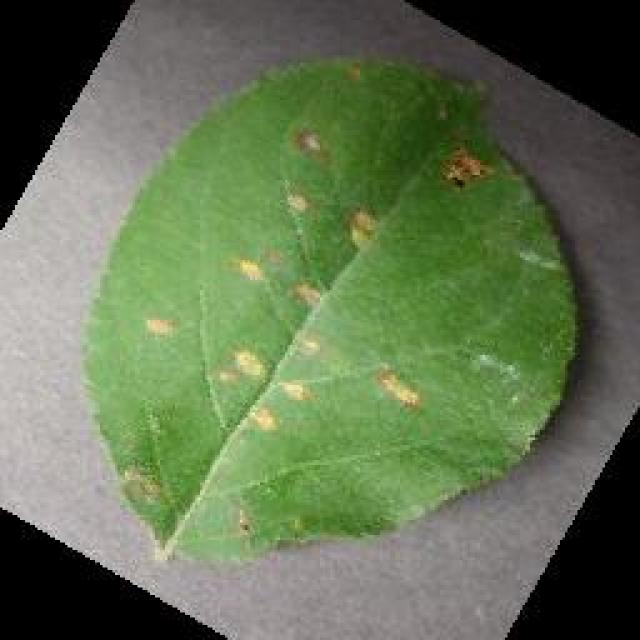apple cedar apple rust: (78, 50, 582, 565)
